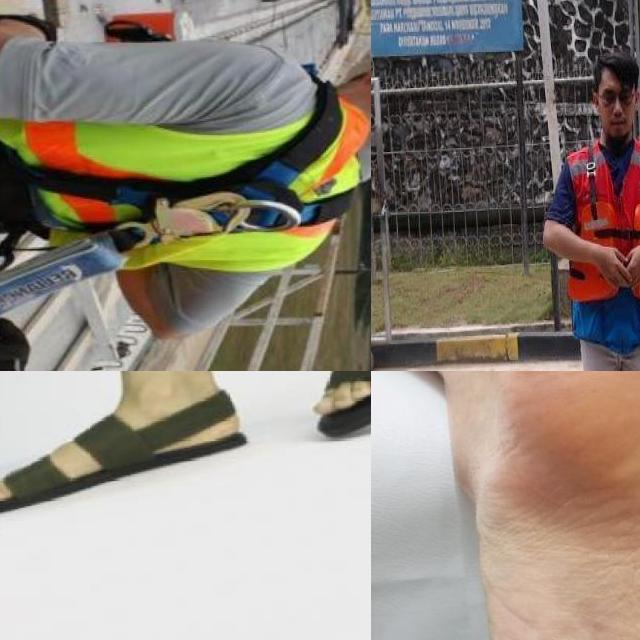Barefoots: (413, 371, 640, 640)
Harness: (0, 53, 366, 256)
Sandals: (0, 383, 251, 522)
person: (507, 39, 640, 371)
vest: (568, 139, 640, 345)
